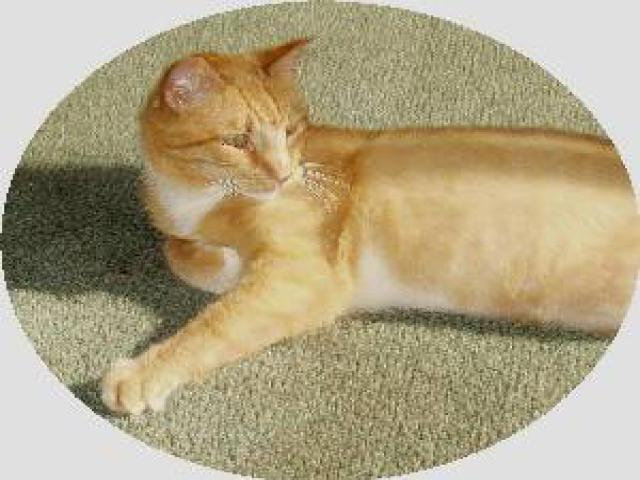cat: (106, 38, 630, 416)
